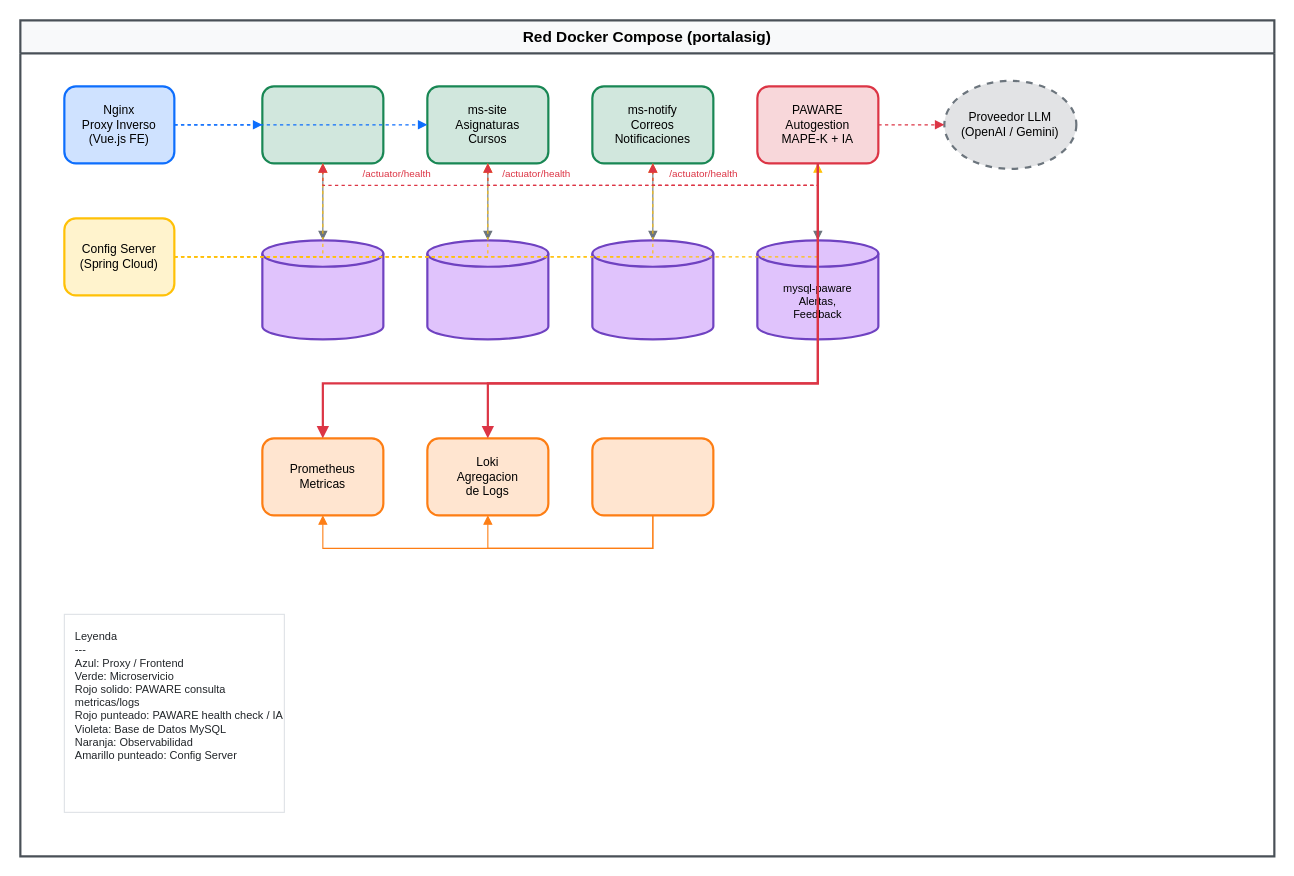
Image size: 1294x876. Some labels were removed from this diagram. The centre of each missing label's shape, as x and y in pixels:
"Grafana Dashboards" belongs at (652,476).
"ms-uaa Autenticacion JWT / OAuth2" belongs at (322,124).
"mysql-notify Eventos Email" belongs at (652,289).
"mysql-site Asignaturas, Cursos" belongs at (487,289).
"mysql-uaa Usuarios, Roles" belongs at (322,289).
